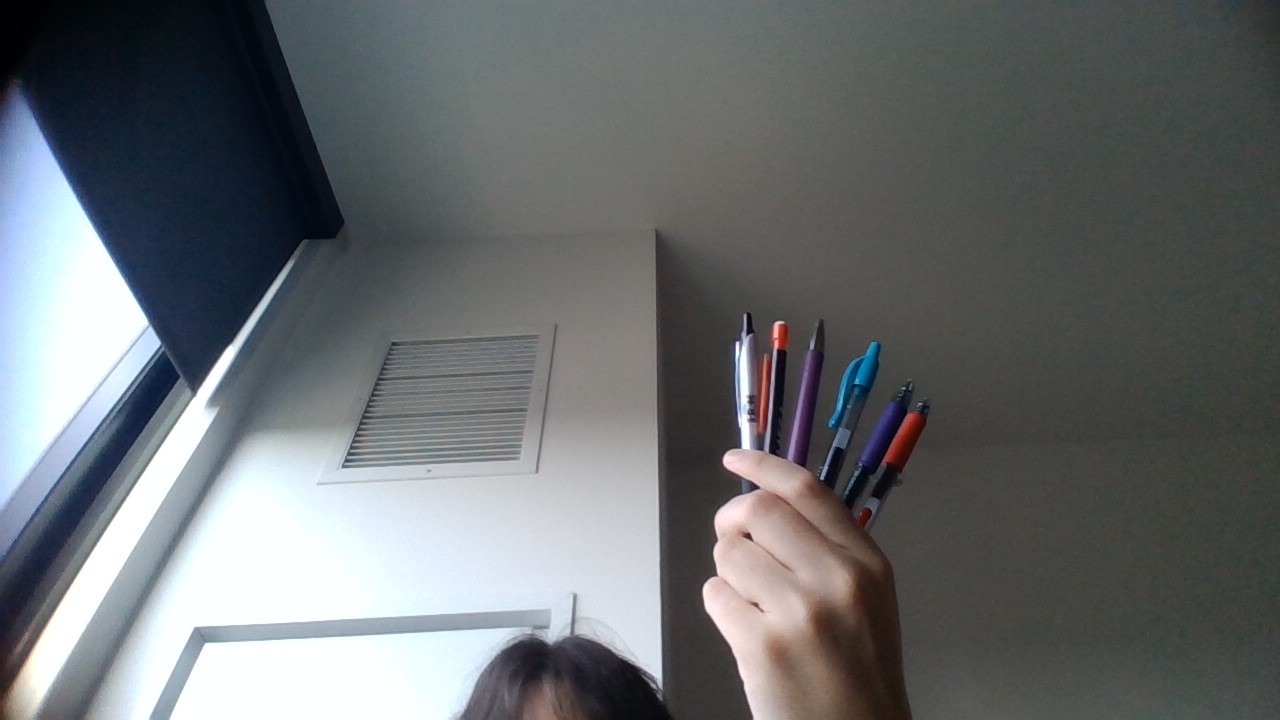Blue Pen: (818, 341, 884, 486)
Cypres Pen Purple: (786, 318, 826, 461)
Purple Pen: (838, 378, 913, 509)
Red Mechanical Pencil: (757, 319, 792, 457)
Red Pen: (854, 398, 933, 532)
Silver Pen: (729, 308, 762, 491)
